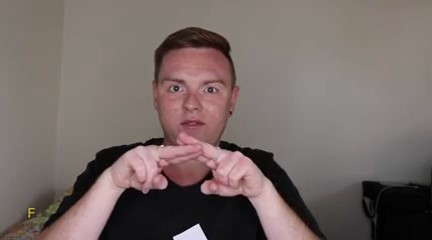F: (104, 125, 271, 206)
